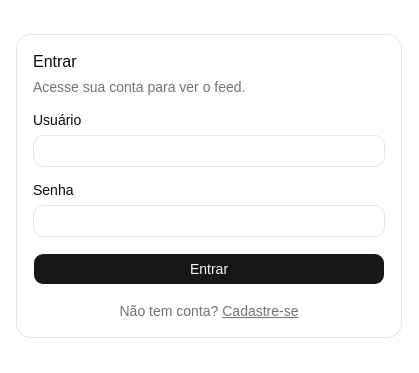
Test: LoginPage › shows an error message when login fails
In the field labelled "Usuário": (209, 151) [33,135,385,167], type "alice"
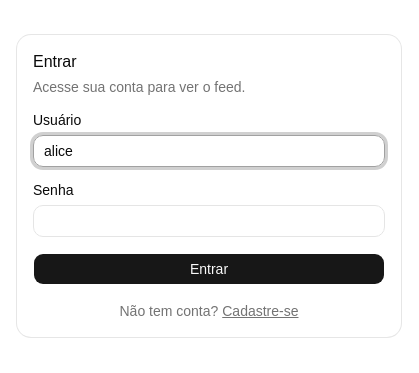
In the password field labelled "Senha": (209, 221) [33,205,385,237], type "wrong-password"
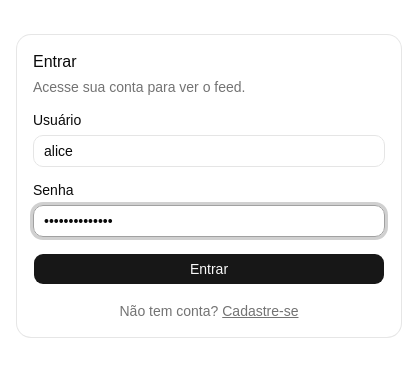
Click the button "Entrar": (209, 269) [33,253,385,285]
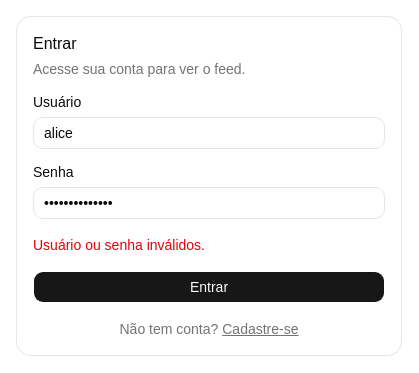
Now the text "Usuário ou senha inválidos." is shown, box [33,237,205,253]
